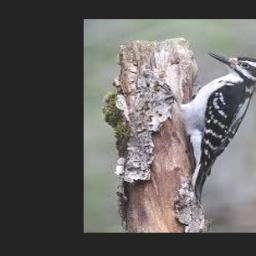Woodpecker: (178, 52, 256, 202)
